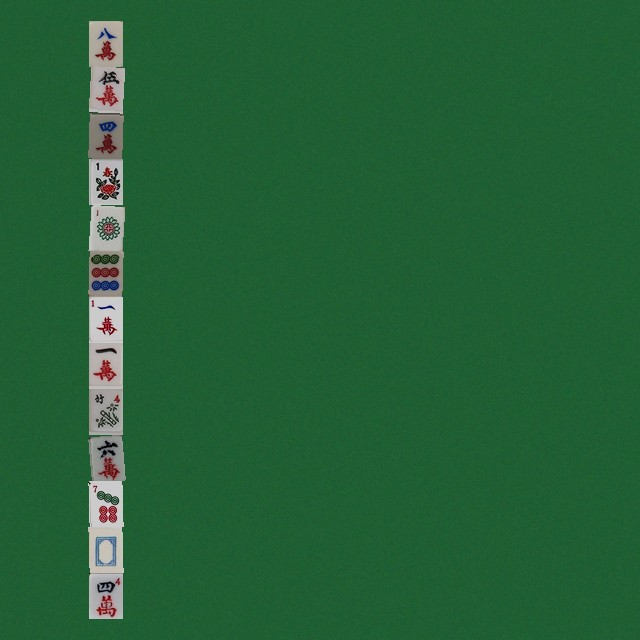tile: (88, 20, 122, 66), (88, 66, 122, 112), (88, 112, 122, 158), (88, 158, 122, 204), (88, 204, 122, 250), (88, 250, 122, 296), (88, 296, 122, 342), (88, 342, 122, 388), (88, 388, 122, 434), (88, 434, 122, 480), (88, 480, 122, 526), (88, 526, 122, 572), (88, 572, 122, 618)
